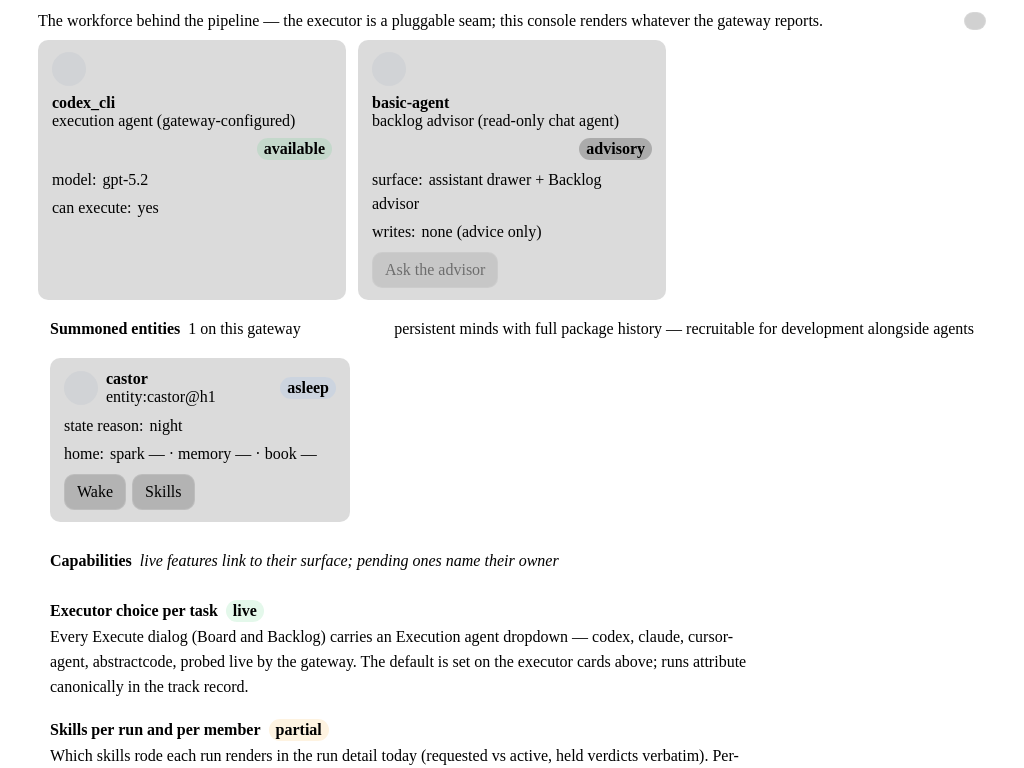
Test: AgentsPage (workforce console) › entity Wake/Sleep verbs post through the gateway door and re-render from its truth
Click the button "Wake": x=95, y=492 [64,474,126,510]
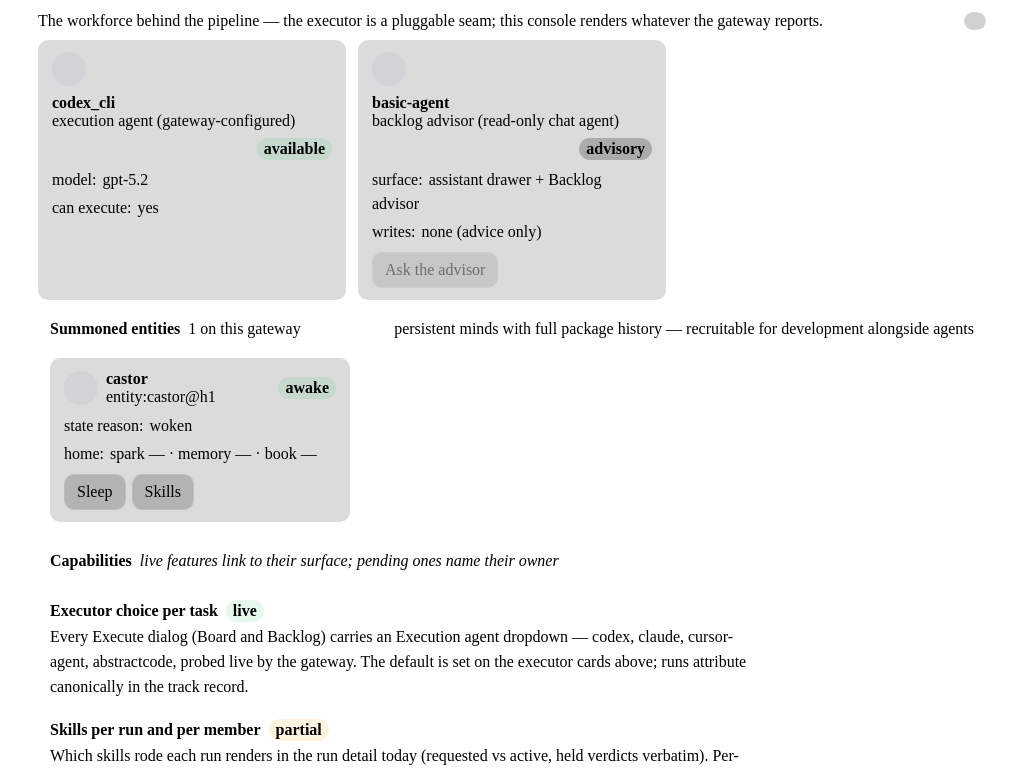
Check: the button "Sleep" is shown, box [64,474,126,510]
